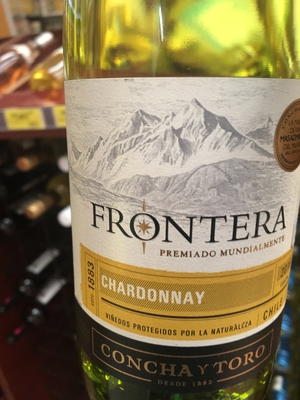frontera chardonnay: (57, 5, 300, 397)
